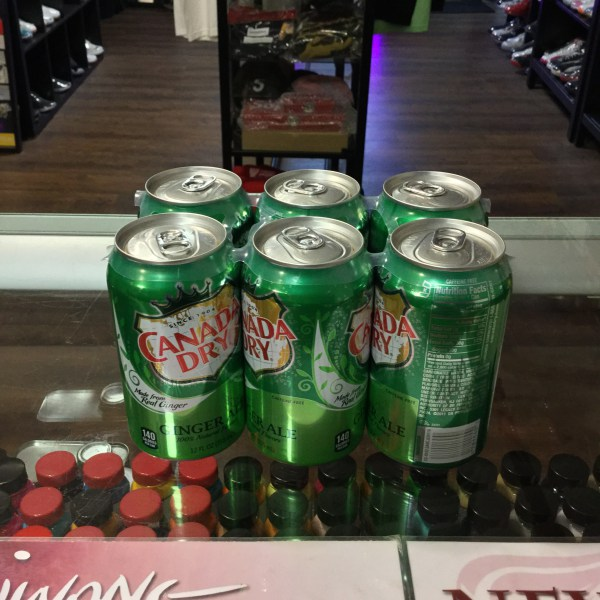Lata: (100, 211, 250, 474)
